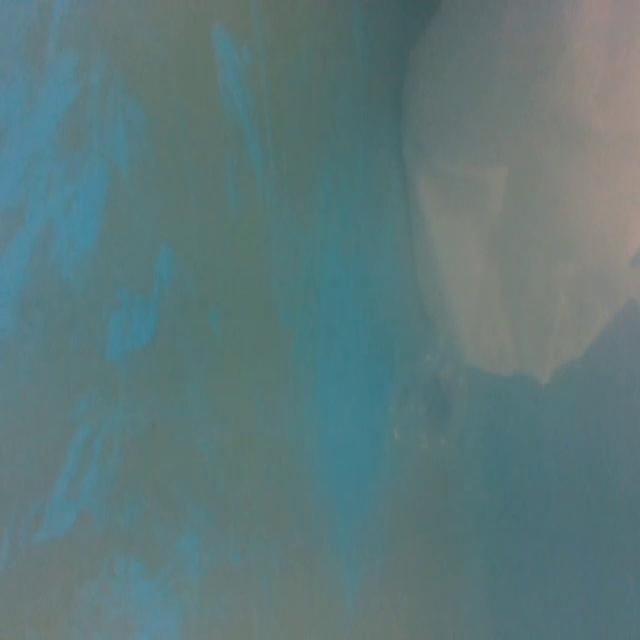plastic bags: (405, 0, 640, 398)
